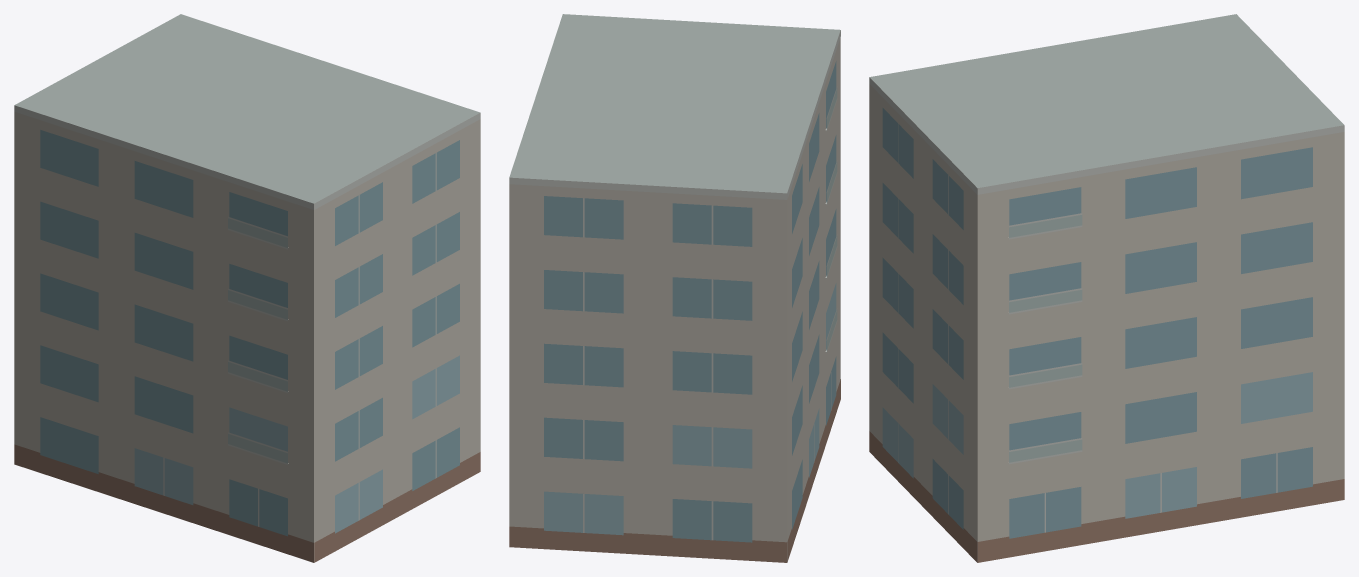
The model's file is survey-upis-32852043.glb.
3 views of the same model, side by side, from view 1: azimuth 30°, elevation 25°; view 2: azimuth 150°, elevation 25°; view 3: azimuth 270°, elevation 25° (orthographic). The views are drawn at different scales.
Parts seen in each view (by area): view 1: survey-upis-32852043.tmp; view 2: survey-upis-32852043.tmp; view 3: survey-upis-32852043.tmp.
Boxes of the visible parts, box(x1,y1,x2,y2) form: survey-upis-32852043.tmp: box(14, 14, 480, 562); survey-upis-32852043.tmp: box(509, 14, 840, 562); survey-upis-32852043.tmp: box(869, 14, 1344, 562).
Bounding box in the file's own units: 13.67 × 13.7 × 15.76.
